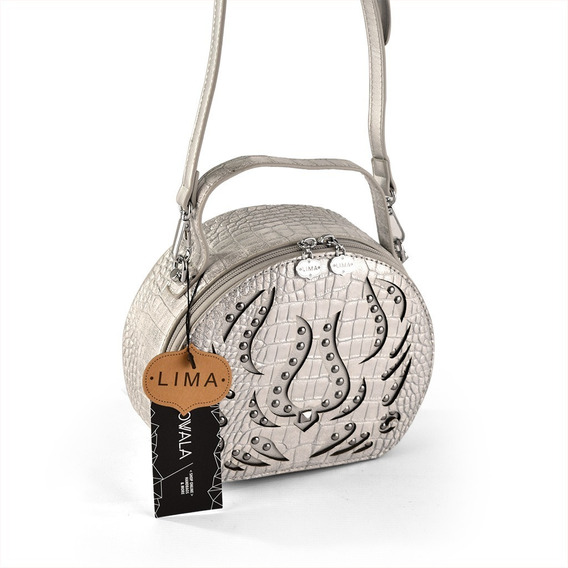cartera: (120, 1, 434, 484)
